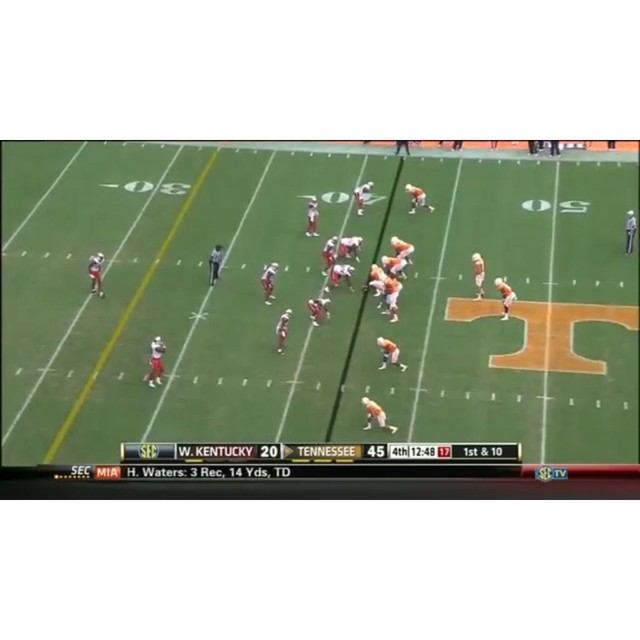american-football-player: (361, 396, 398, 434), (376, 336, 408, 372), (146, 335, 167, 387), (494, 277, 518, 321), (382, 275, 403, 322), (325, 264, 356, 294), (405, 184, 434, 216), (87, 252, 106, 298), (260, 262, 280, 305), (352, 181, 375, 217), (390, 235, 416, 266), (275, 308, 292, 354), (380, 254, 408, 281), (307, 296, 331, 327), (337, 236, 364, 263), (321, 236, 339, 276), (471, 253, 486, 299), (305, 197, 320, 236)
referee: (623, 210, 639, 257), (208, 244, 224, 285)
